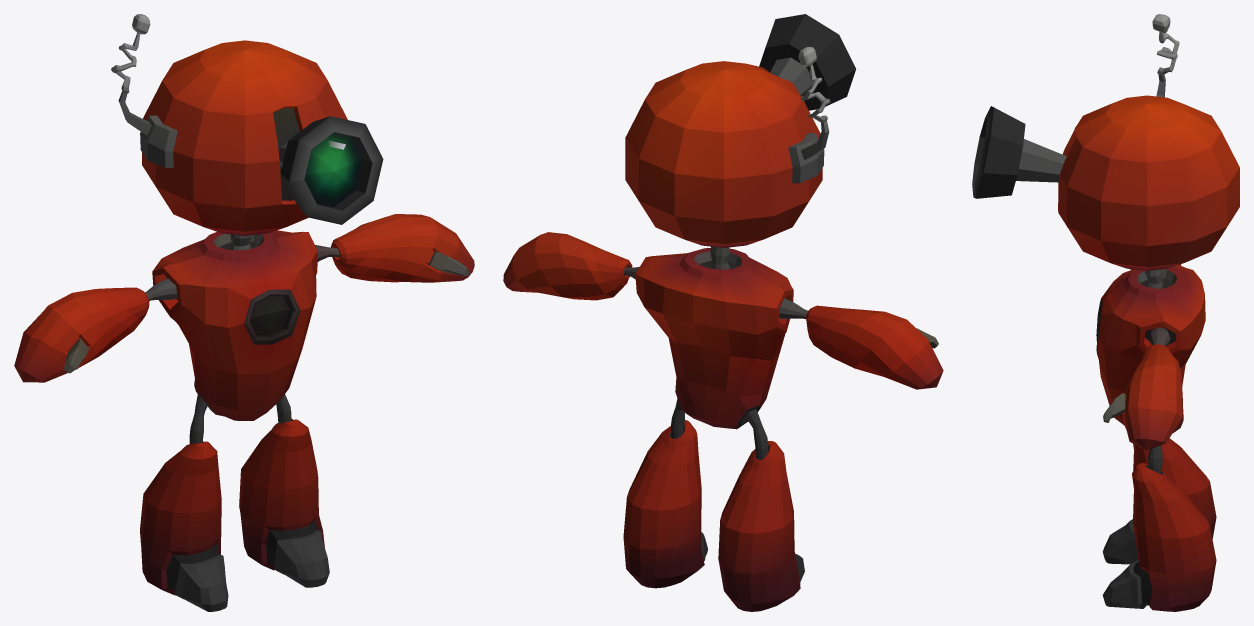
File: robot.fbx
3 renders of one model, left to right at view 1: azimuth 30°, elevation 25°; view 2: azimuth 150°, elevation 25°; view 3: azimuth 270°, elevation 25°, orthographic. The views are drawn at different scales.
Parts seen in each view (by area): view 1: Cylinder.005; view 2: Cylinder.005; view 3: Cylinder.005.
Part boxes in pixels (<box>): Cylinder.005: <box>14,14,474,611</box>; Cylinder.005: <box>503,14,943,611</box>; Cylinder.005: <box>972,14,1239,611</box>.
Size of the model in its own units: 371 by 457 by 212.
